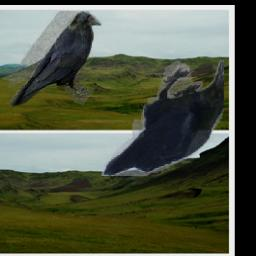Crow: (102, 61, 225, 177), (9, 11, 101, 108)
